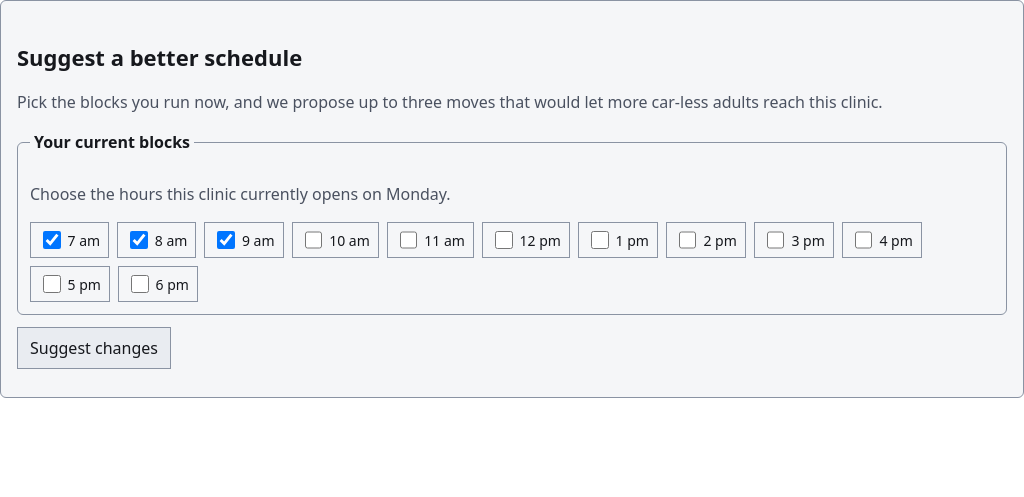
Test: SuggestPanel › shows the 'needs real data' message on a 503 (mock mode)
The image size is (1024, 497).
Click the button "Suggest changes".
click(94, 348)  # box [17,327,171,369]
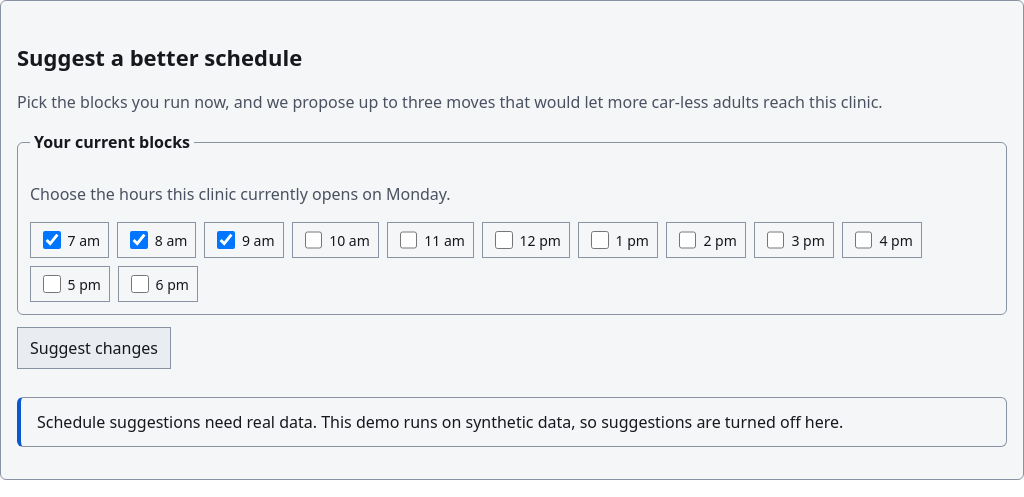
Expected: the text "need real data" is shown, [37,411,843,433]
